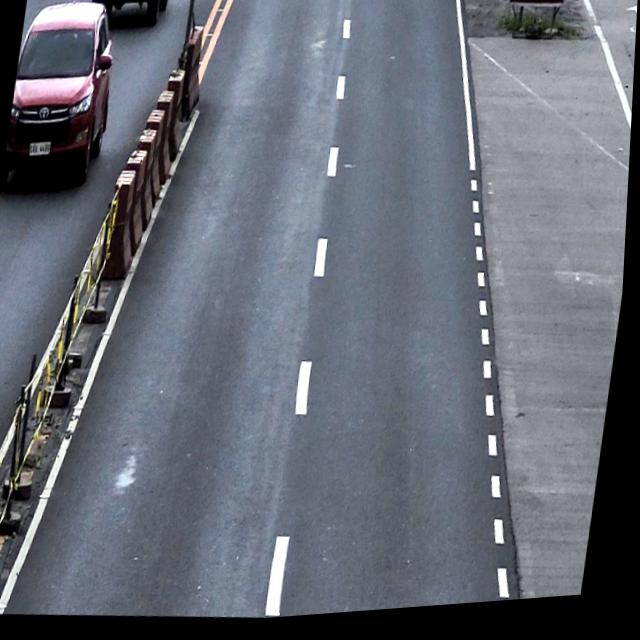Car: (2, 0, 123, 192), (86, 0, 170, 30)
License-Plate: (29, 140, 53, 158)
